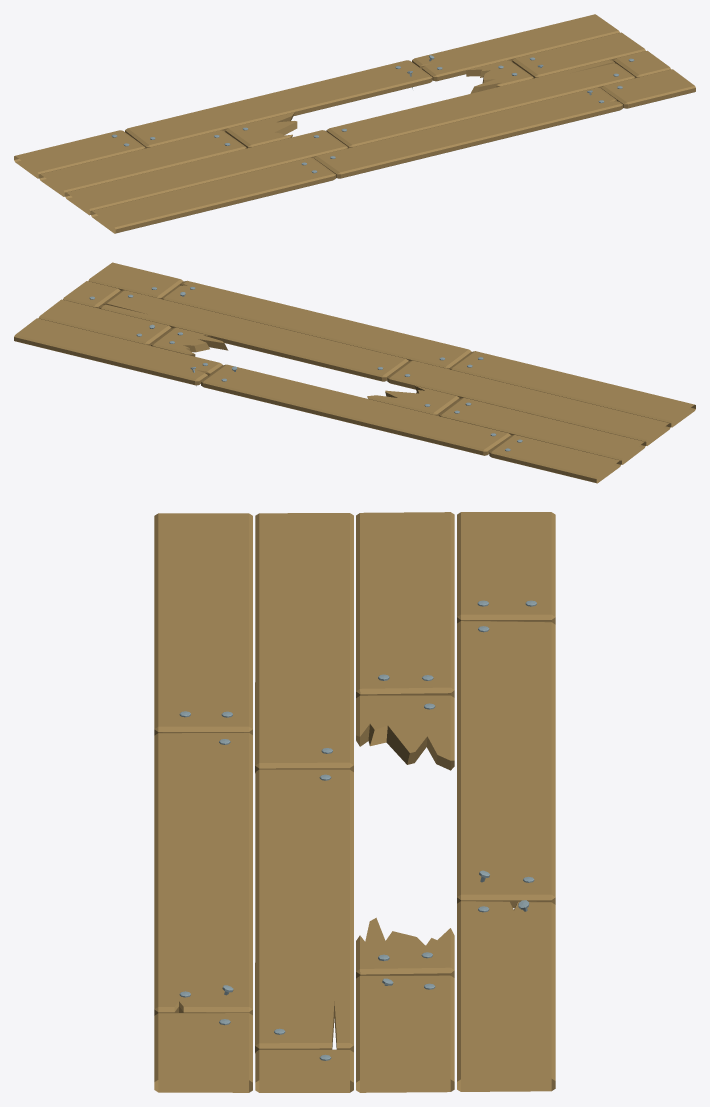
Rendered from FLOOR_crack.fbx.
3 views of the same model, one above another, from view 1: azimuth 30°, elevation 25°; view 2: azimuth 150°, elevation 25°; view 3: azimuth 270°, elevation 25° (orthographic). The views are drawn at different scales.
Parts seen in each view (by area): view 1: plain boards.018, plain boards.020; view 2: plain boards.018, plain boards.020; view 3: plain boards.018, plain boards.020.
Boxes of the visible parts, box(x1,y1,x2,y2) form: plain boards.018: box(14, 84, 408, 233); plain boards.020: box(303, 14, 695, 163); plain boards.018: box(302, 333, 695, 483); plain boards.020: box(14, 262, 399, 411); plain boards.018: box(154, 512, 555, 802); plain boards.020: box(154, 792, 555, 1092).
Bounding box in the file's own units: 558 × 19.03 × 167.
